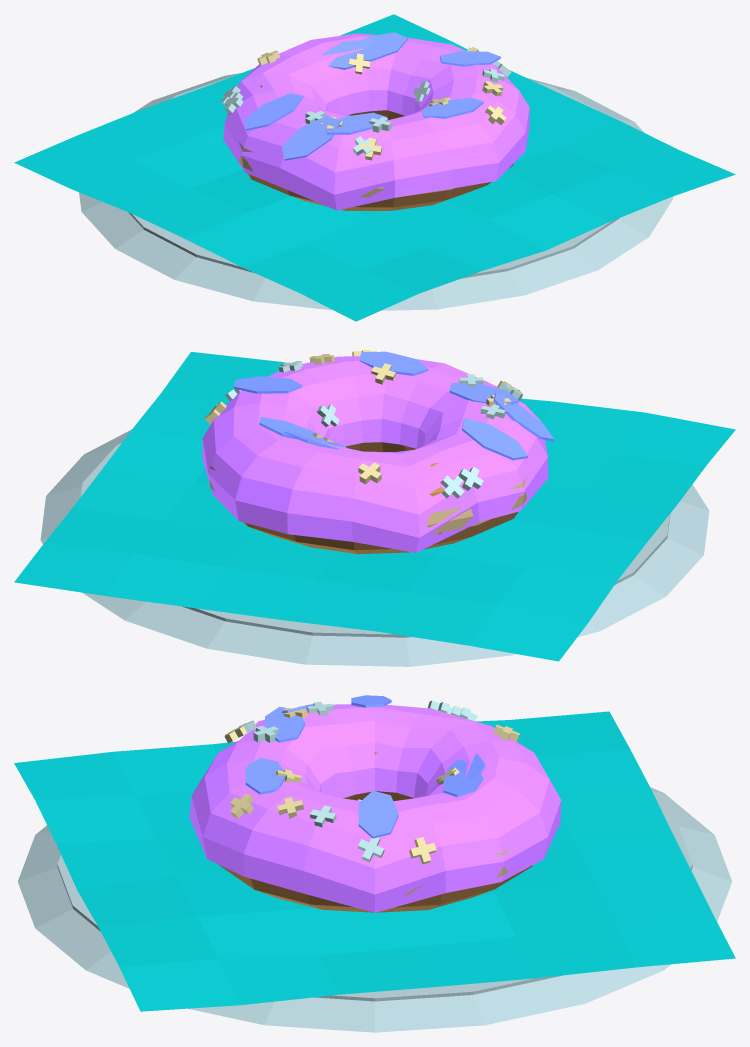
The model's file is Donut_Galaxy_Plate.fbx.
3 renders of one model, top to bottom at view 1: azimuth 30°, elevation 25°; view 2: azimuth 150°, elevation 25°; view 3: azimuth 270°, elevation 25°, orthographic. The views are drawn at different scales.
Visible parts, largest first — view 1: Donut_Galaxy_Plate; view 2: Donut_Galaxy_Plate; view 3: Donut_Galaxy_Plate.
Boxes of the visible parts, x1,y1,x2,y2 form: Donut_Galaxy_Plate: (14,14,735,321); Donut_Galaxy_Plate: (14,350,735,666); Donut_Galaxy_Plate: (14,695,735,1032).
Bounding box in the file's own units: 0.8184 × 0.1657 × 0.8184.
